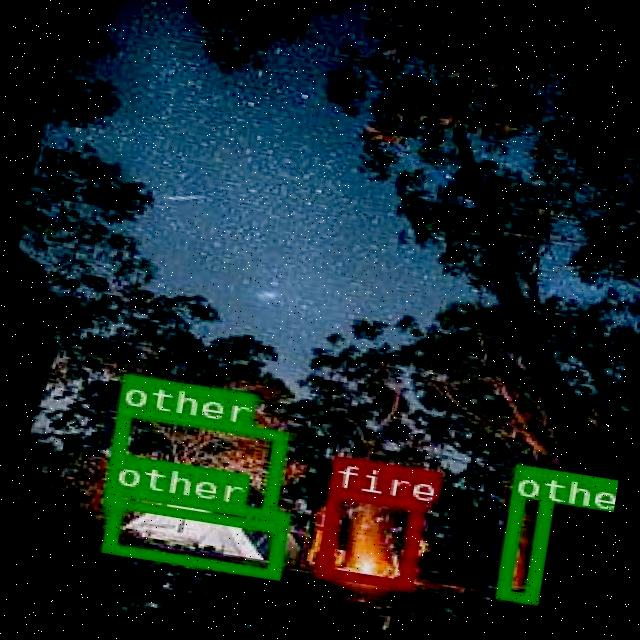fire: (314, 486, 424, 588)
